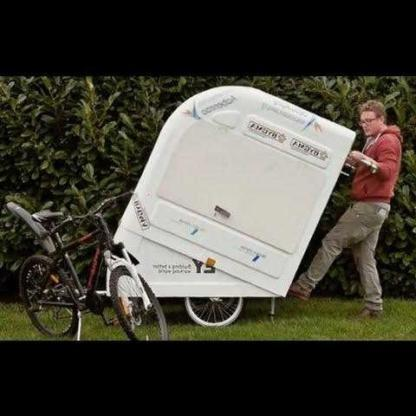Bicycle: (1, 188, 167, 336)
